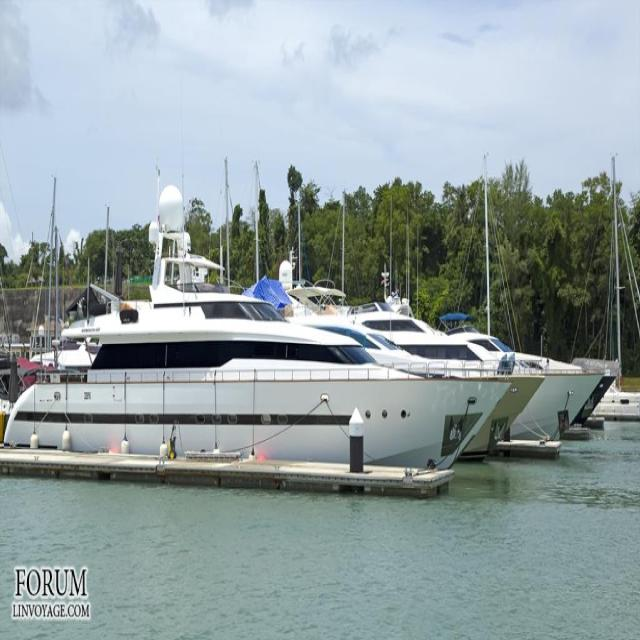Boat: (7, 174, 615, 495)
